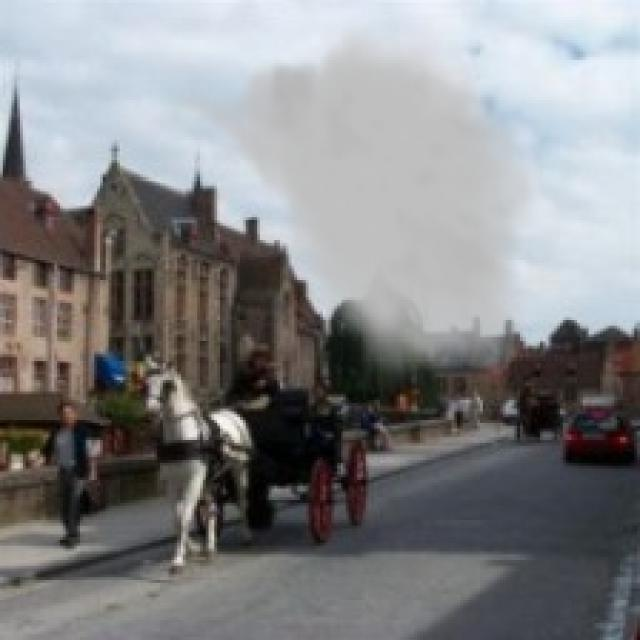Smoke: (166, 14, 543, 397)
